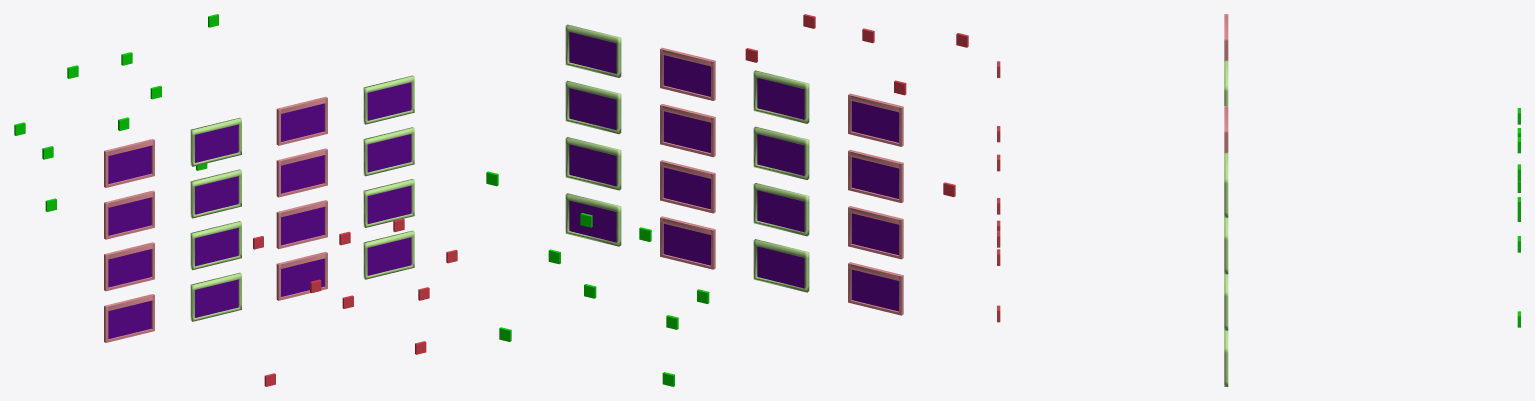
The model's file is Scenario1.gltf.
3 renders of one model, left to right at view 1: azimuth 30°, elevation 25°; view 2: azimuth 150°, elevation 25°; view 3: azimuth 270°, elevation 25°, orthographic. The views are drawn at different scales.
Parts seen in each view (by area): view 1: portal2, portal2.005, portal2.002, portal2.006, portal2.007, portal1.007, portal1.004, portal1.005, portal1.006, portal2.008, portal2.003, portal1.003 (+20 smaller); view 2: portal2.002, portal1.004, portal1, portal1.002, portal2.003, portal1.003, portal2.004, portal2.005, portal2.006, portal1.006, portal1.007, portal1.005 (+20 smaller); view 3: no part large enough to name.
Boxes of the visible parts, x1,y1,x2,y2 form: portal2: (367, 237, 411, 275); portal2.005: (367, 134, 411, 172); portal2.002: (367, 185, 411, 223); portal2.006: (367, 82, 411, 120); portal2.007: (195, 176, 238, 214); portal1.007: (108, 197, 151, 235); portal1.004: (108, 249, 151, 287); portal1.005: (281, 155, 324, 193); portal1.006: (281, 103, 324, 141); portal2.008: (195, 124, 238, 162); portal2.003: (195, 279, 238, 317); portal1.003: (108, 300, 151, 338); portal2.002: (569, 144, 616, 186); portal1.004: (851, 213, 898, 255); portal1: (663, 223, 710, 265); portal1.002: (663, 167, 710, 209); portal2.003: (757, 246, 804, 288); portal1.003: (851, 269, 898, 311); portal2.004: (757, 190, 804, 232); portal2.005: (569, 88, 616, 129); portal2.006: (569, 32, 616, 73); portal1.006: (663, 55, 710, 96); portal1.007: (851, 157, 898, 198); portal1.005: (663, 111, 710, 152).
Size of the model in its own units: 62.58 by 36.95 by 84.16.
